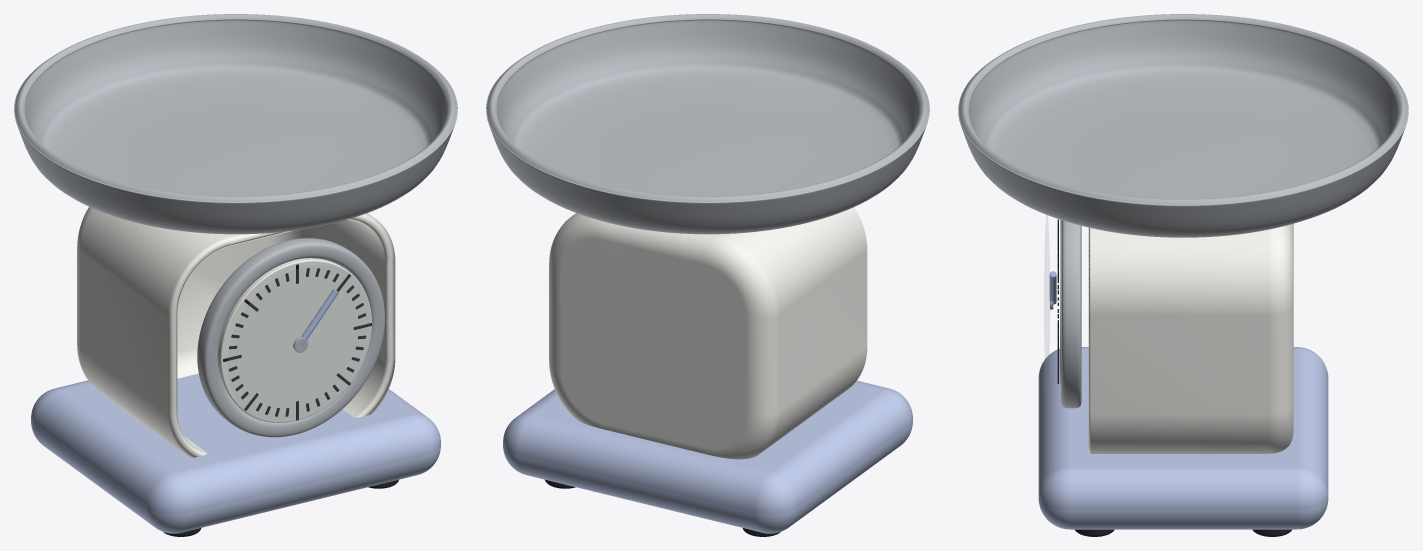
Rendered from kitchen-scale.glb.
The picture shows the model from 3 angles, left to right: view 1: azimuth 30°, elevation 25°; view 2: azimuth 150°, elevation 25°; view 3: azimuth 270°, elevation 25°; orthographic projection.
Visible parts, largest first — view 1: hollow-vessel-with-rolled-lip, weighted-pedestal-001, hollow-rounded-housing, needle-and-crystal-051, dial-and-calibrated-face-008, machined-annular-ring; view 2: hollow-vessel-with-rolled-lip, hollow-rounded-housing, weighted-pedestal-001; view 3: hollow-vessel-with-rolled-lip, hollow-rounded-housing, weighted-pedestal-001, machined-annular-ring, needle-and-crystal-051.
Boxes of the visible parts, bbox=[...] form: hollow-vessel-with-rolled-lip: bbox=[14, 14, 457, 234]; weighted-pedestal-001: bbox=[31, 372, 440, 533]; hollow-rounded-housing: bbox=[77, 207, 395, 458]; needle-and-crystal-051: bbox=[228, 265, 378, 427]; dial-and-calibrated-face-008: bbox=[218, 258, 372, 422]; machined-annular-ring: bbox=[197, 238, 384, 437]; hollow-vessel-with-rolled-lip: bbox=[486, 14, 929, 234]; hollow-rounded-housing: bbox=[549, 207, 867, 459]; weighted-pedestal-001: bbox=[503, 380, 912, 533]; hollow-vessel-with-rolled-lip: bbox=[958, 14, 1408, 237]; hollow-rounded-housing: bbox=[1088, 223, 1293, 453]; weighted-pedestal-001: bbox=[1038, 347, 1328, 529]; machined-annular-ring: bbox=[1061, 220, 1081, 408]; needle-and-crystal-051: bbox=[1044, 216, 1049, 387].
Bounding box in the file's own units: 2 × 1.83 × 2.
